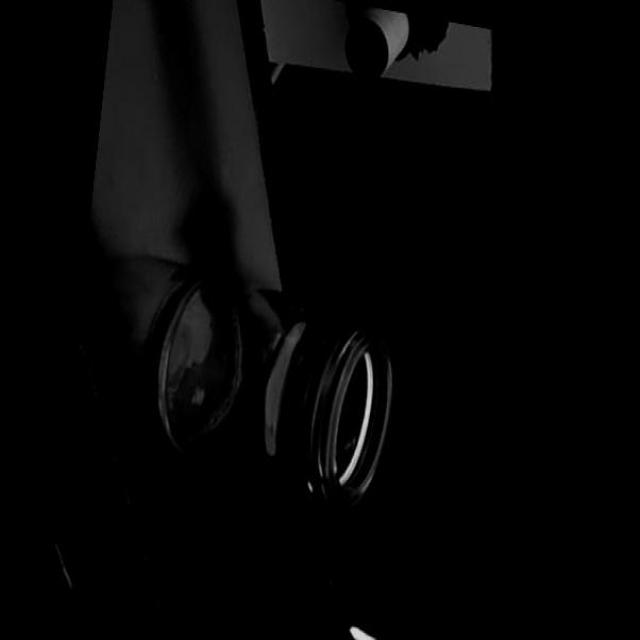defect: (304, 478, 312, 493)
glass: (139, 267, 399, 525)
